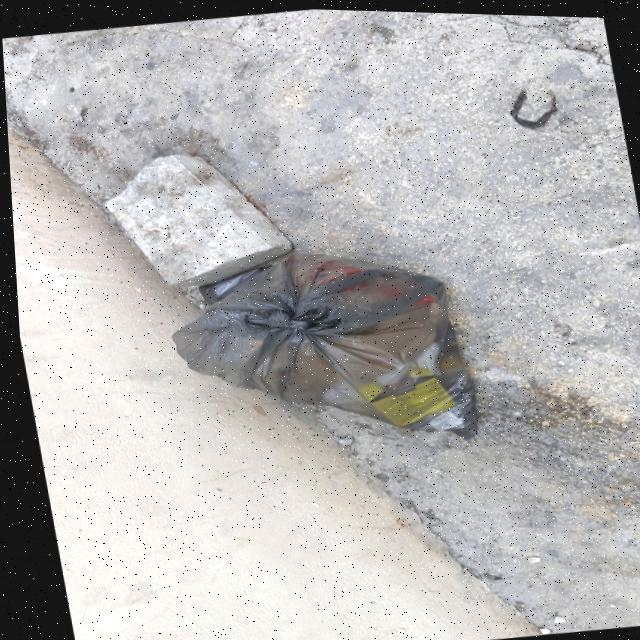Mixed Waste -Black Bag-: (154, 231, 482, 472)
